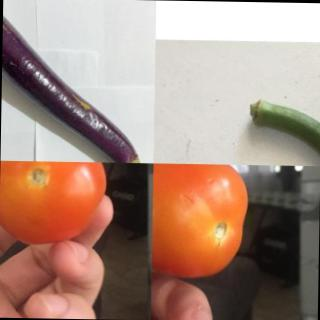Tomat: (151, 162, 253, 287), (1, 160, 115, 259)
